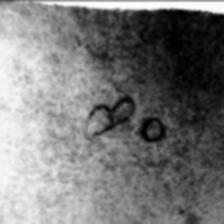Potentially Malignant Skin Tumors: (84, 95, 141, 133), (148, 110, 170, 152)
